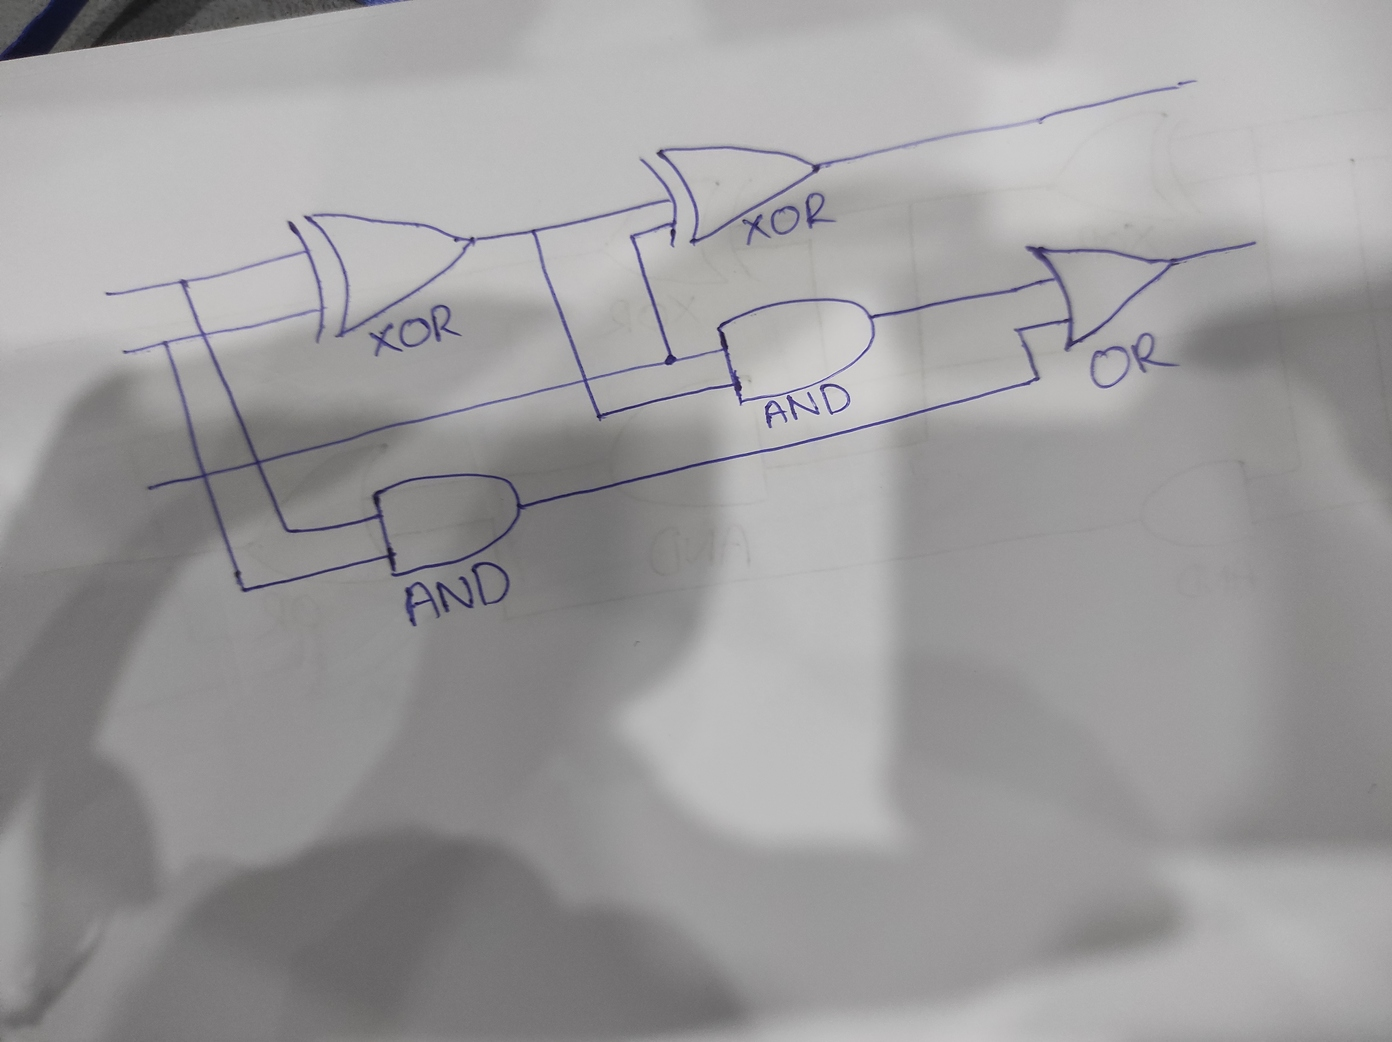and: (714, 296, 880, 409), (370, 471, 526, 578)
crossover: (187, 322, 214, 343), (193, 467, 214, 483), (248, 453, 267, 471), (577, 372, 594, 387)
junction: (230, 576, 259, 600), (1021, 369, 1049, 392), (1010, 320, 1032, 341), (521, 221, 544, 241), (590, 407, 611, 427), (659, 350, 681, 368), (173, 273, 193, 290), (622, 229, 640, 246), (277, 523, 298, 539), (156, 336, 176, 351)
or: (1021, 240, 1181, 355)
terminal: (1171, 70, 1213, 97), (1232, 231, 1265, 257), (96, 285, 118, 303), (138, 481, 158, 496), (116, 345, 135, 360)
text: (404, 561, 510, 625), (738, 189, 839, 248), (368, 301, 465, 359), (1083, 335, 1179, 386), (759, 379, 850, 426)
xor: (282, 210, 482, 348), (635, 141, 831, 248)
